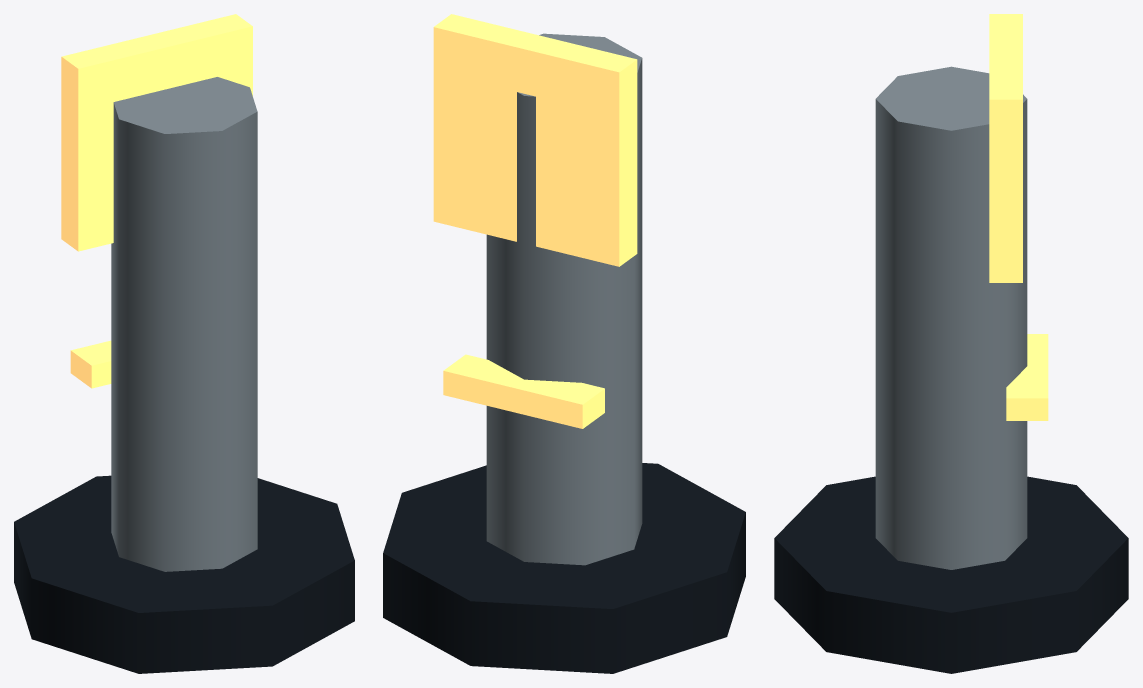
The model's file is np_z06_avantage_gestes.glb.
3 views of the same model, side by side, from view 1: azimuth 30°, elevation 25°; view 2: azimuth 150°, elevation 25°; view 3: azimuth 270°, elevation 25° (orthographic). The views are drawn at different scales.
Visible parts, largest first — view 1: Chassis, Socle, Pictogramme, BandeEtat; view 2: Socle, Chassis, Pictogramme, BandeEtat; view 3: Chassis, Socle, Pictogramme, BandeEtat.
Boxes of the visible parts, box(x1,y1,x2,y2) form: Chassis: box(111, 77, 257, 571); Socle: box(14, 475, 354, 673); Pictogramme: box(61, 14, 252, 251); BandeEtat: box(70, 340, 111, 388); Socle: box(383, 463, 745, 673); Chassis: box(486, 33, 642, 565); Pictogramme: box(433, 14, 637, 266); BandeEtat: box(443, 354, 604, 428); Chassis: box(875, 66, 1027, 569); Socle: box(774, 476, 1128, 673); Pictogramme: box(989, 14, 1022, 282); BandeEtat: box(1006, 334, 1048, 420).
Size of the model in its own units: 0.84 by 1.42 by 0.84.
